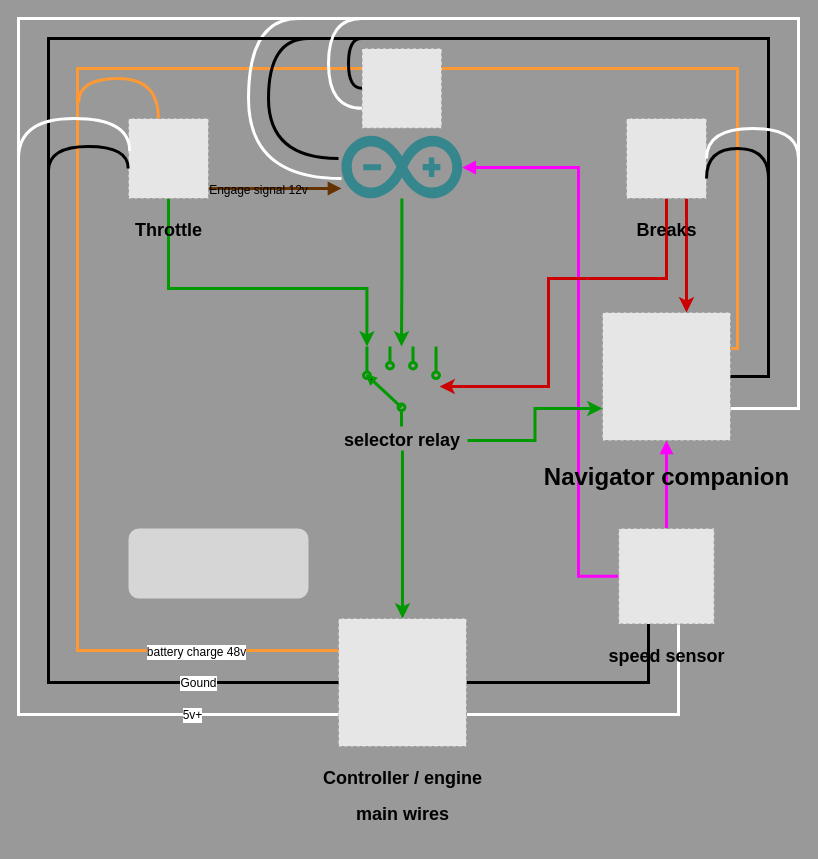
Some shapes in this 818 by 859 pixel diagram are drawn without their labels. Grey dashed boxes stand in for pictures. The centre of each missing label's shape, as x and y in pixels:
"adaptive cruise control" belongs at [401,166].
"Pendings: lights horn" belongs at [218,563].
